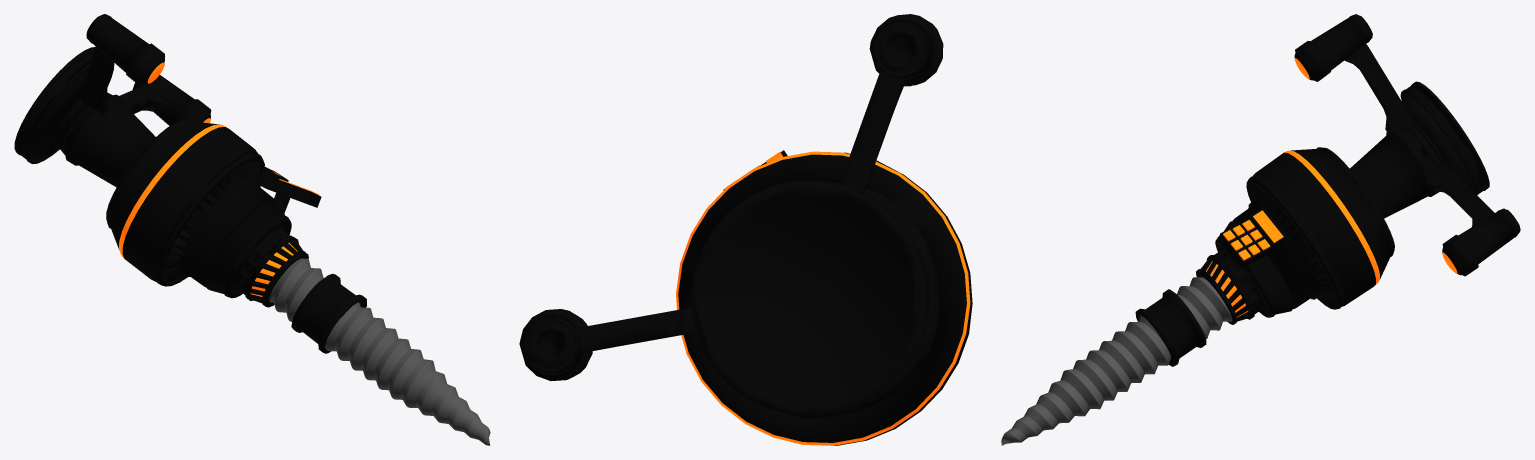
File: handdrill.glb
3 views of the same model, side by side, from view 1: azimuth 30°, elevation 25°; view 2: azimuth 150°, elevation 25°; view 3: azimuth 270°, elevation 25° (orthographic). The views are drawn at different scales.
Parts seen in each view (by area): view 1: CP_DRILL_BODY1_0, DRILL_METAL_DRILL_METAL2_0, CP_EMISSIVE1_0; view 2: CP_DRILL_BODY1_0, CP_EMISSIVE1_0; view 3: CP_DRILL_BODY1_0, DRILL_METAL_DRILL_METAL2_0, CP_EMISSIVE1_0.
Part boxes in pixels (x1,y1,x2,y2): CP_DRILL_BODY1_0: (14, 14, 366, 353); DRILL_METAL_DRILL_METAL2_0: (269, 253, 490, 445); CP_EMISSIVE1_0: (119, 62, 319, 296); CP_DRILL_BODY1_0: (519, 14, 972, 445); CP_EMISSIVE1_0: (676, 151, 970, 445); CP_DRILL_BODY1_0: (1135, 14, 1520, 366); DRILL_METAL_DRILL_METAL2_0: (1001, 277, 1232, 445); CP_EMISSIVE1_0: (1206, 58, 1457, 317).
Bounding box in the file's own units: 0.2301 × 0.295 × 0.4154.
